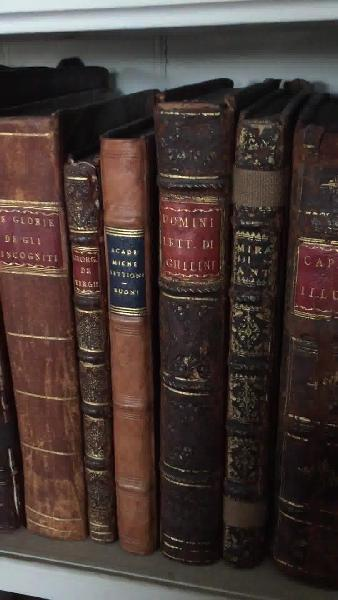Aa6-33: (4, 116, 88, 537)
Aa6-34: (59, 152, 124, 550)
Aa6-35: (100, 137, 158, 556)
Aa6-36: (151, 97, 228, 572)
Aa6-37: (223, 116, 285, 562)
